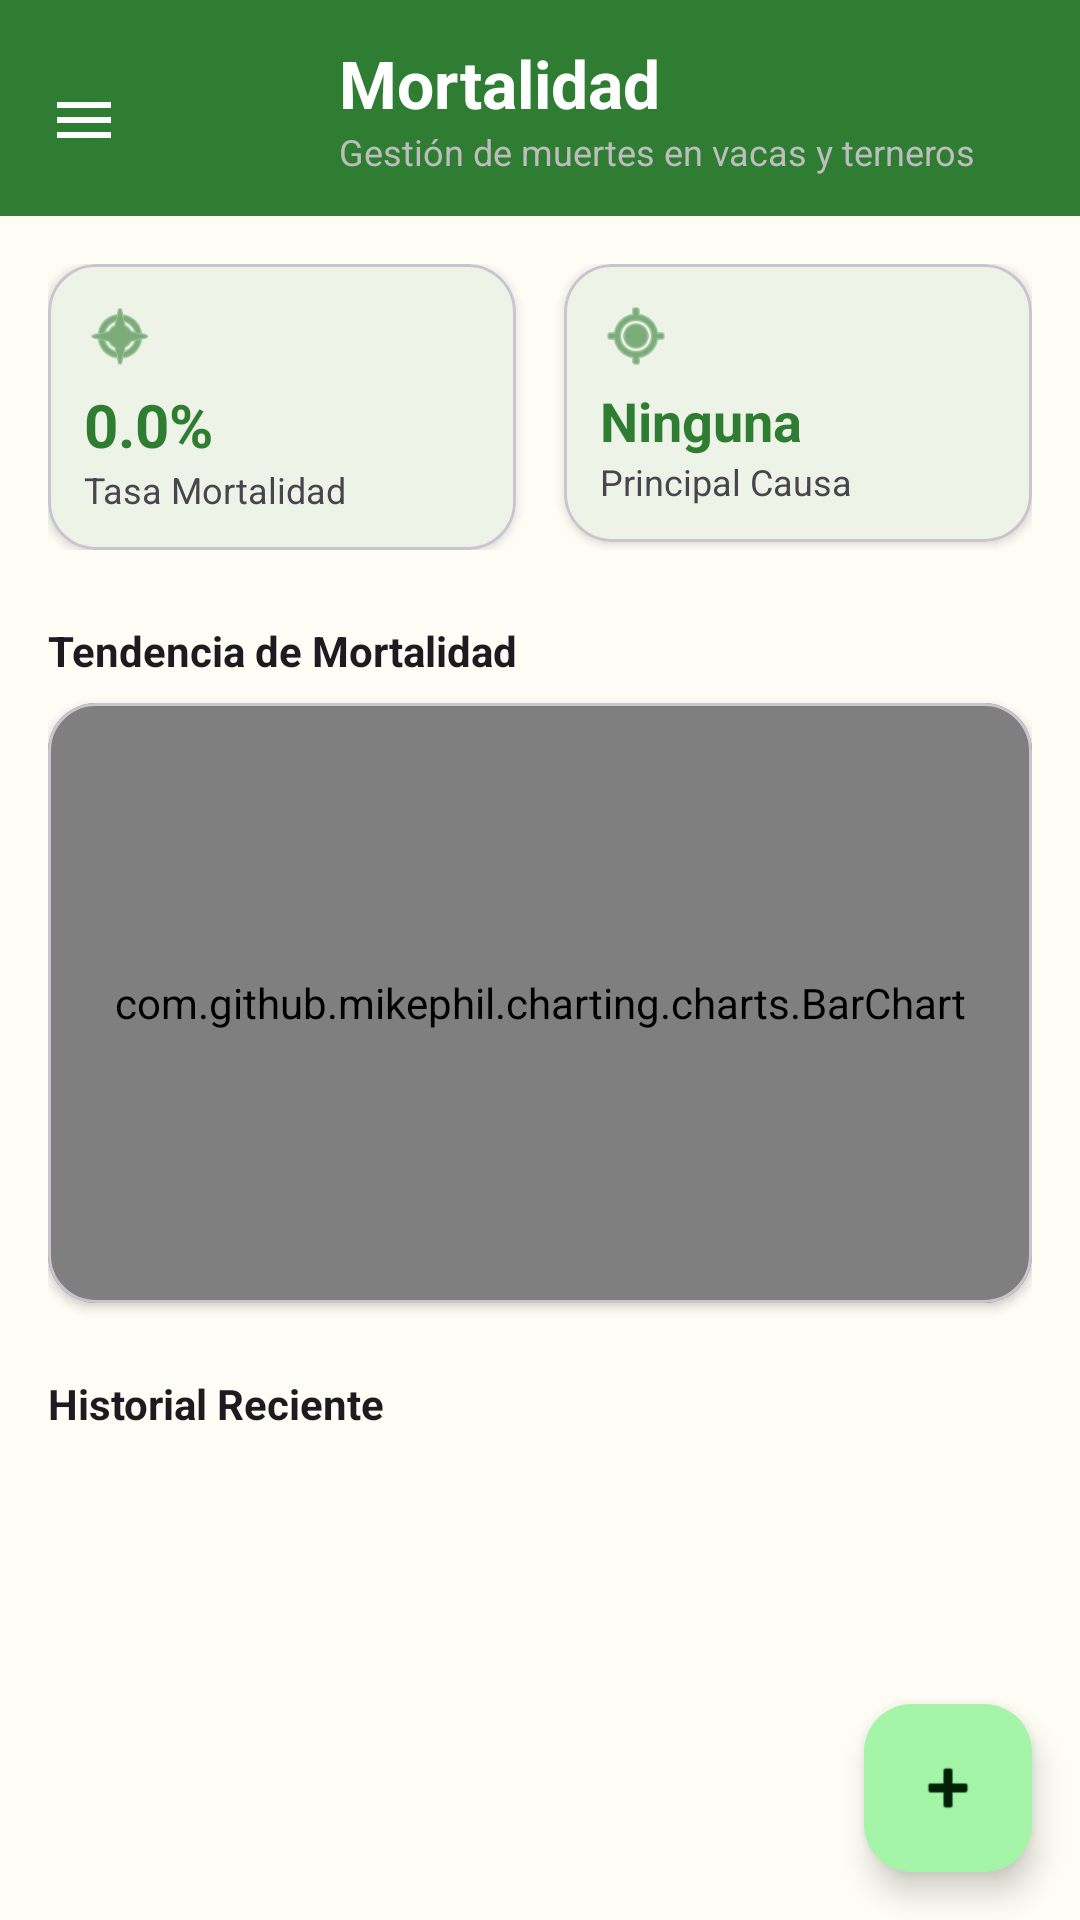

Screen size 1080x1920. Icon name, then its center in pixels as (x,y):
Registrar Muerte: (948,1788)
